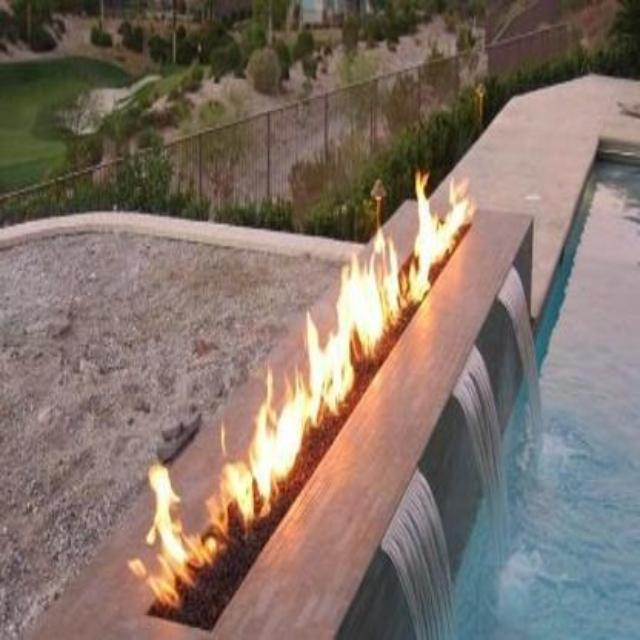Fire: (132, 169, 474, 596)
